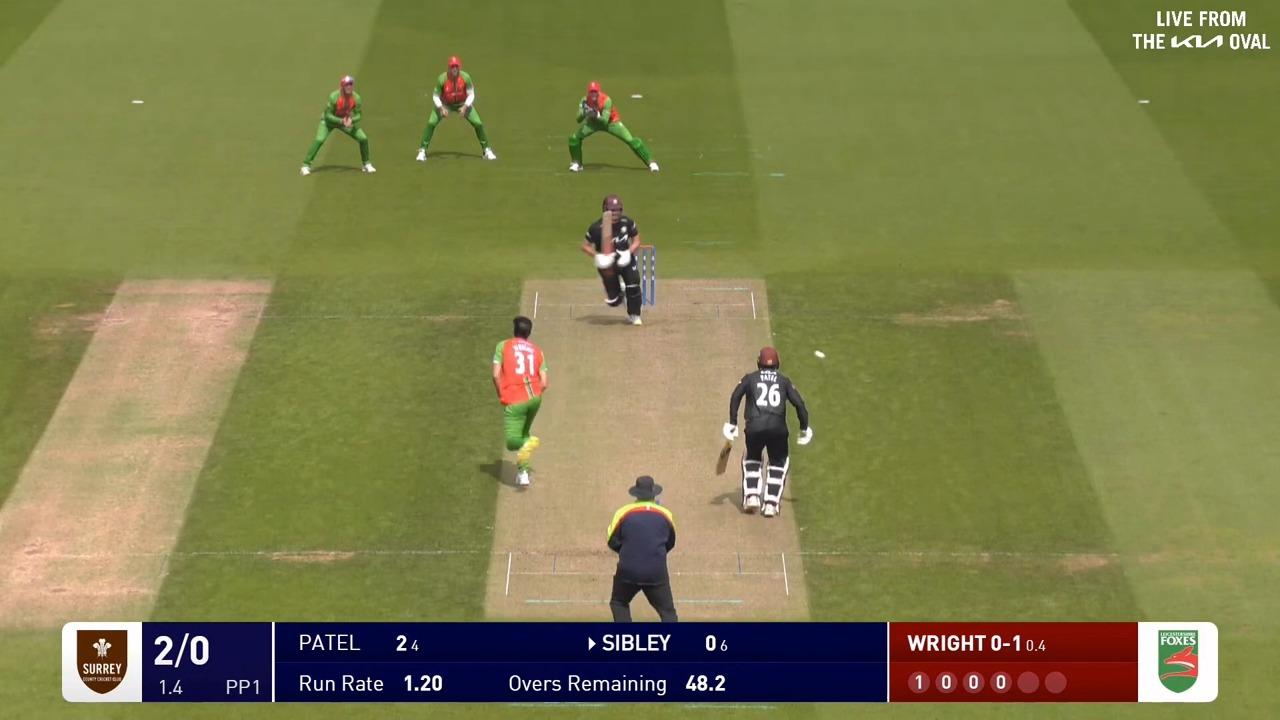sports ball: (814, 350, 826, 359)
